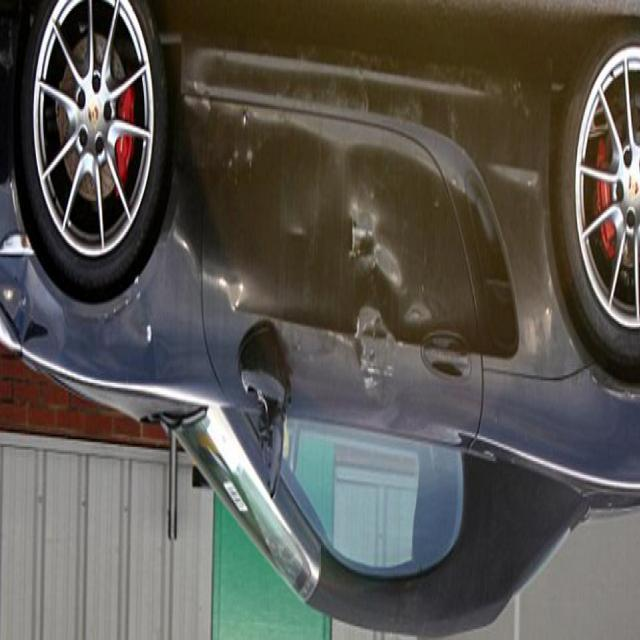dent: (322, 174, 406, 416)
